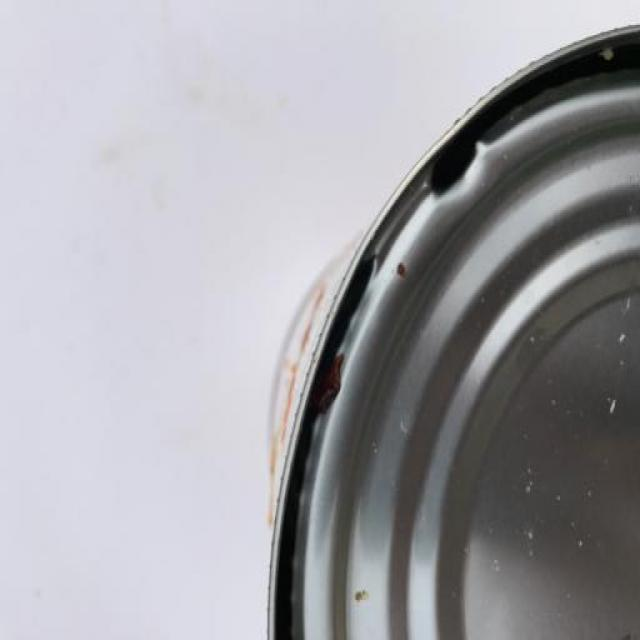metel: (305, 29, 640, 640)
